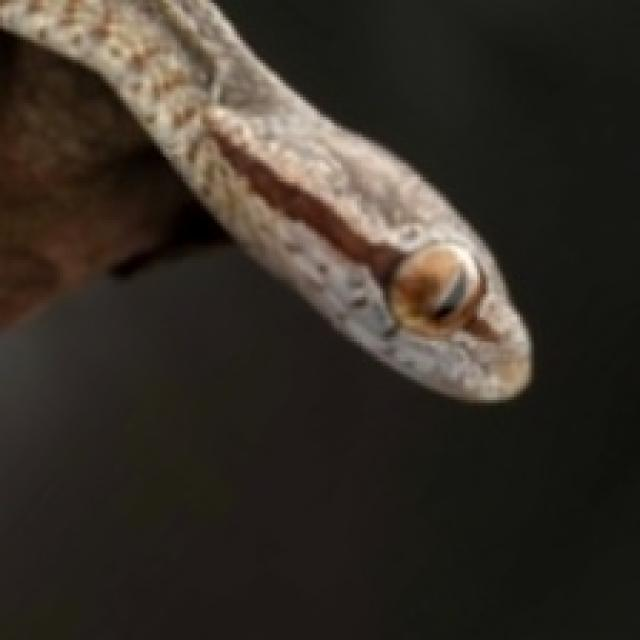dog-toothed cat snake: (0, 0, 529, 400)
